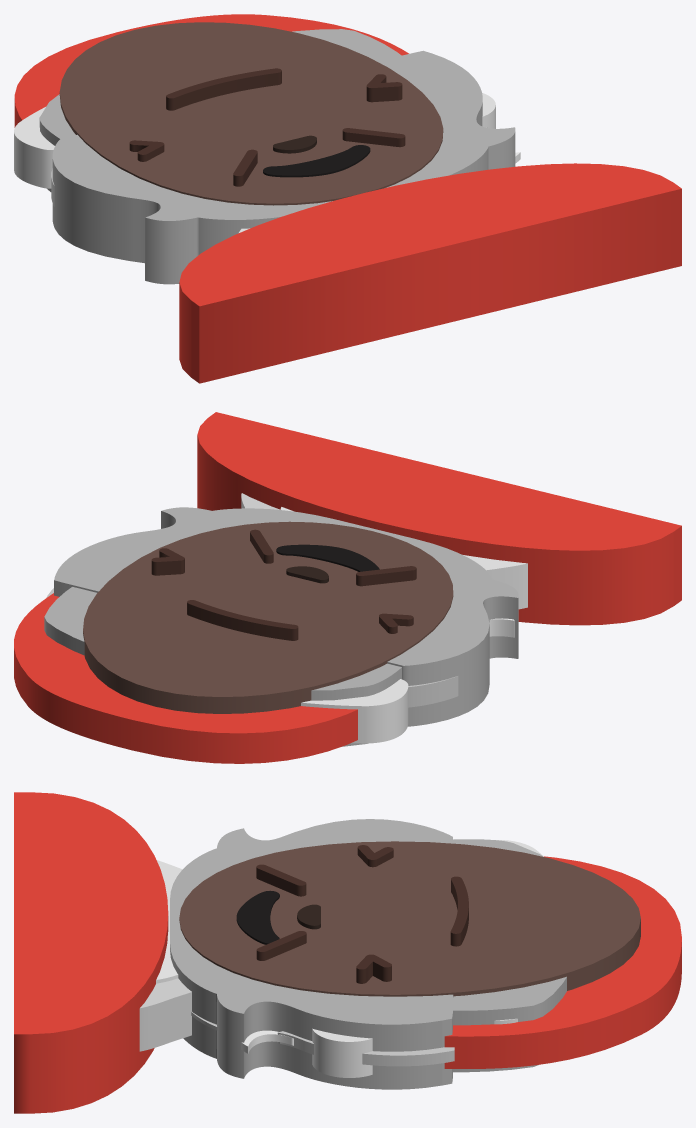
The model's file is emoji_u1f9d1_1f3ff_200d_1f384.glb.
The picture shows the model from 3 angles, top to bottom: view 1: azimuth 30°, elevation 25°; view 2: azimuth 150°, elevation 25°; view 3: azimuth 270°, elevation 25°; orthographic projection. The views are drawn at different scales.
Visible parts, largest first — view 1: emoji_u1f9d1_1f3ff_200d_1f384; view 2: emoji_u1f9d1_1f3ff_200d_1f384; view 3: emoji_u1f9d1_1f3ff_200d_1f384.
Boxes of the visible parts, left/top/right/bottom form: emoji_u1f9d1_1f3ff_200d_1f384: left=14, top=14, right=681, bottom=383; emoji_u1f9d1_1f3ff_200d_1f384: left=14, top=412, right=681, bottom=763; emoji_u1f9d1_1f3ff_200d_1f384: left=14, top=792, right=681, bottom=1113.
Size of the model in its own units: 0.0287 by 0.0054 by 0.0335.
